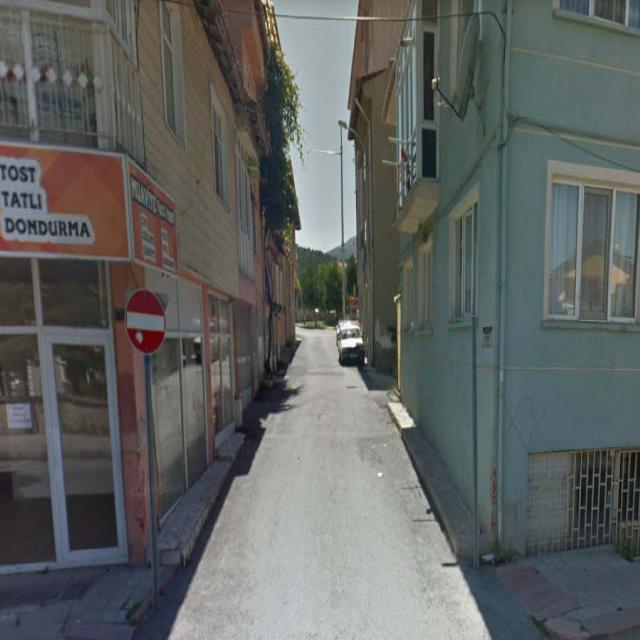girisyok: (124, 293, 169, 352)
